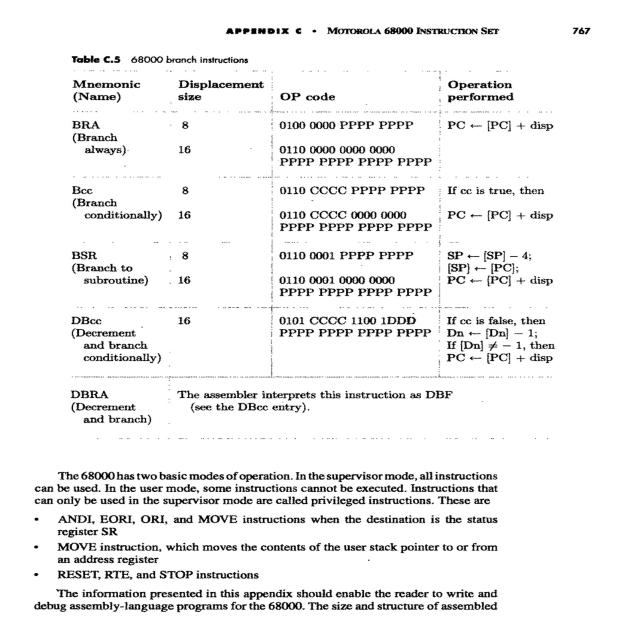diagram: (70, 39, 640, 422)
